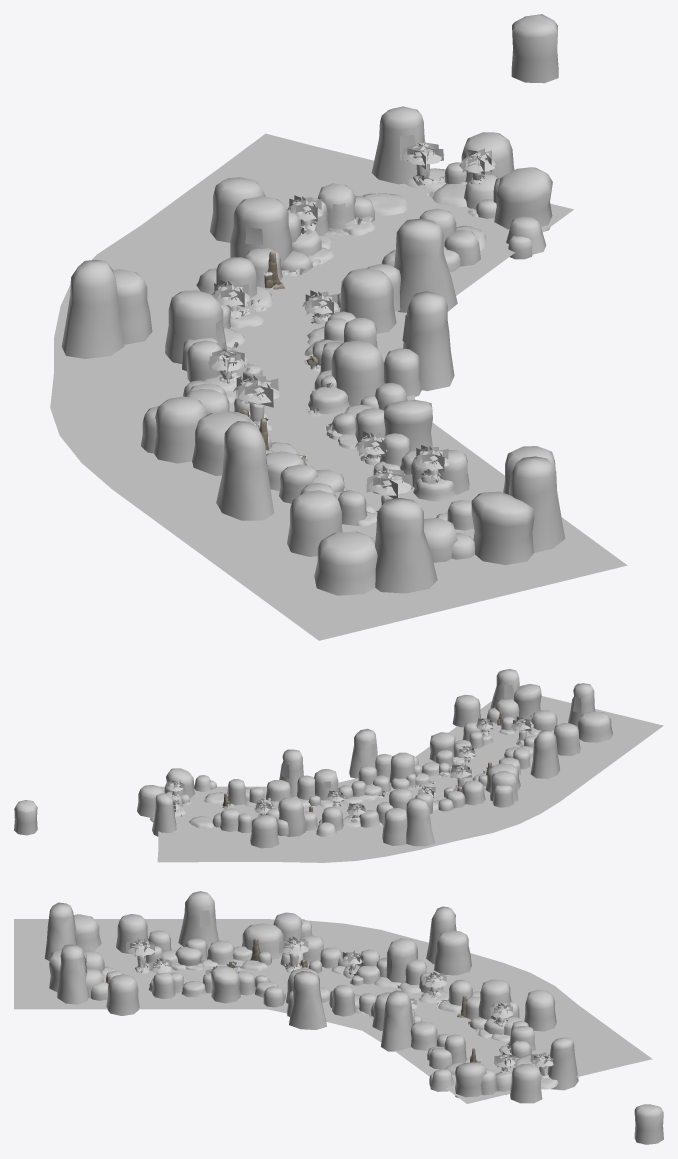
Rendered from GQ02_YLG_Mesh_001.FBX.
3 renders of one model, top to bottom at view 1: azimuth 30°, elevation 25°; view 2: azimuth 150°, elevation 25°; view 3: azimuth 270°, elevation 25°, orthographic. The views are drawn at different scales.
Parts seen in each view (by area): view 1: Rock2_GY_Stage2, Floor1_ST2, TreeLeaf2_ST2, Rock1_YG_Stage2, StoneRight_B_Stage2, Wood1_ST2; view 2: Rock2_GY_Stage2, Floor1_ST2, TreeLeaf2_ST2, Rock1_YG_Stage2, StoneRight_B_Stage2; view 3: Rock2_GY_Stage2, Floor1_ST2, TreeLeaf2_ST2, Rock1_YG_Stage2, Stone1_GY_Stage2, Wood1_ST2, StoneRight_B_Stage2.
Boxes of the visible parts, x1=… form: Rock2_GY_Stage2: x1=61, y1=14, x2=565, y2=595; Floor1_ST2: x1=50, y1=133, x2=627, y2=640; TreeLeaf2_ST2: x1=208, y1=140, x2=496, y2=511; Rock1_YG_Stage2: x1=224, y1=168, x2=486, y2=513; StoneRight_B_Stage2: x1=216, y1=135, x2=510, y2=494; Wood1_ST2: x1=220, y1=164, x2=482, y2=505; Rock2_GY_Stage2: x1=14, y1=669, x2=612, y2=848; Floor1_ST2: x1=157, y1=696, x2=663, y2=862; TreeLeaf2_ST2: x1=165, y1=716, x2=533, y2=822; Rock1_YG_Stage2: x1=150, y1=747, x2=519, y2=828; StoneRight_B_Stage2: x1=173, y1=685, x2=581, y2=813; Rock2_GY_Stage2: x1=44, y1=891, x2=663, y2=1144; Floor1_ST2: x1=14, y1=919, x2=652, y2=1103; TreeLeaf2_ST2: x1=126, y1=936, x2=553, y2=1082; Rock1_YG_Stage2: x1=171, y1=959, x2=558, y2=1089; Stone1_GY_Stage2: x1=106, y1=938, x2=480, y2=1062; Wood1_ST2: x1=134, y1=955, x2=547, y2=1075; StoneRight_B_Stage2: x1=73, y1=910, x2=550, y2=1055.
Size of the model in its own units: 186 by 22.39 by 227.
